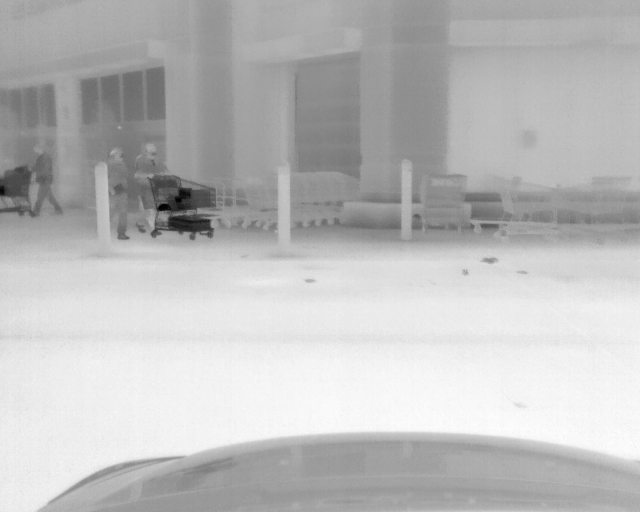people: (132, 141, 166, 239), (28, 144, 63, 216), (107, 146, 129, 241)
